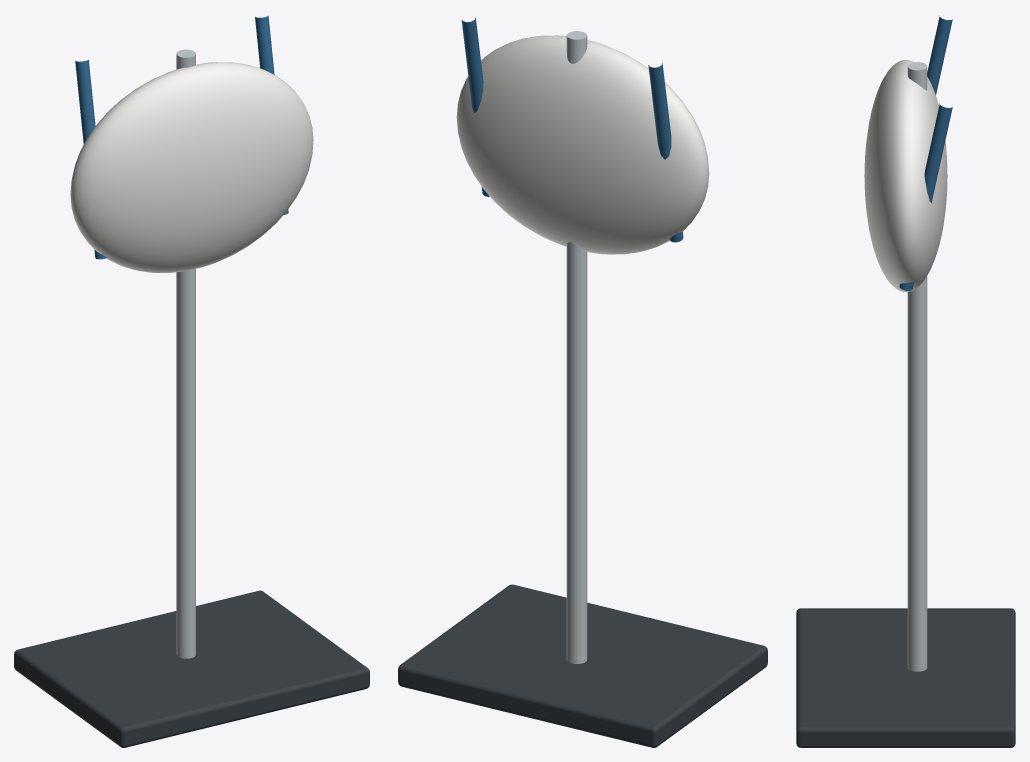
File: fencing-club-and-tournament-piste-chest-protector-ed4d5c83__31231.glb
3 renders of one model, left to right at view 1: azimuth 30°, elevation 25°; view 2: azimuth 150°, elevation 25°; view 3: azimuth 270°, elevation 25°, orthographic. The views are drawn at different scales.
Parts seen in each view (by area): view 1: chest-protector; view 2: chest-protector; view 3: chest-protector.
Boxes of the visible parts, <box> form: chest-protector: <box>14,15,369,747</box>; chest-protector: <box>398,17,767,747</box>; chest-protector: <box>796,15,1015,747</box>.
Bounding box in the file's own units: 0.5 × 1.2 × 0.38.
